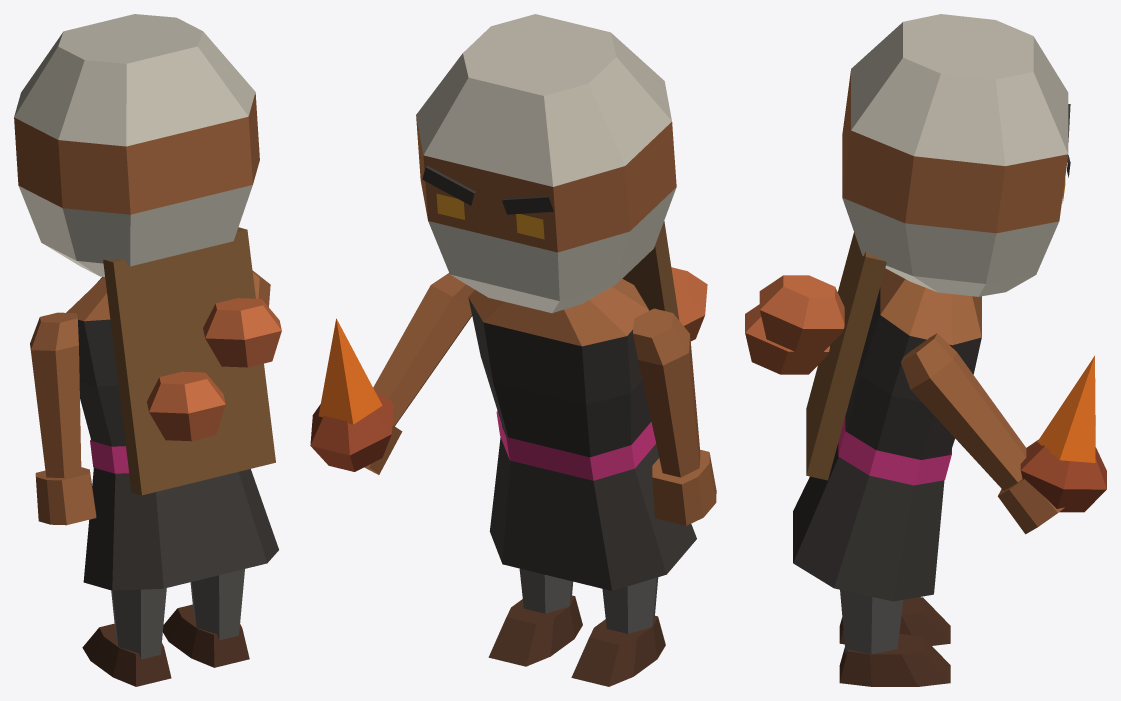
Rendered from EN_FirePot.fbx.
3 views of the same model, side by side, from view 1: azimuth 30°, elevation 25°; view 2: azimuth 150°, elevation 25°; view 3: azimuth 270°, elevation 25° (orthographic). The views are drawn at different scales.
Visible parts, largest first — view 1: Body, Head, ArmL, LegL, LegR; view 2: Head, Body, ArmR, ArmL, LegL, LegR; view 3: Head, Body, ArmR, LegR, LegL.
Part boxes in pixels (x1,y1,x2,y2): Body: (66,227,281,590); Head: (14,14,259,276); ArmL: (30,312,96,525); LegL: (82,588,171,686); LegR: (163,569,249,667); Head: (416,14,676,313); Body: (468,221,707,590); ArmR: (310,273,474,474); ArmL: (633,308,716,525); LegL: (571,577,665,686); LegR: (488,568,582,666); Head: (842,14,1070,296); Body: (745,232,981,601); ArmR: (901,333,1106,534); LegR: (839,590,950,686); LegL: (839,597,950,645).
Size of the model in its own units: 0.595 by 0.6204 by 1.16.
